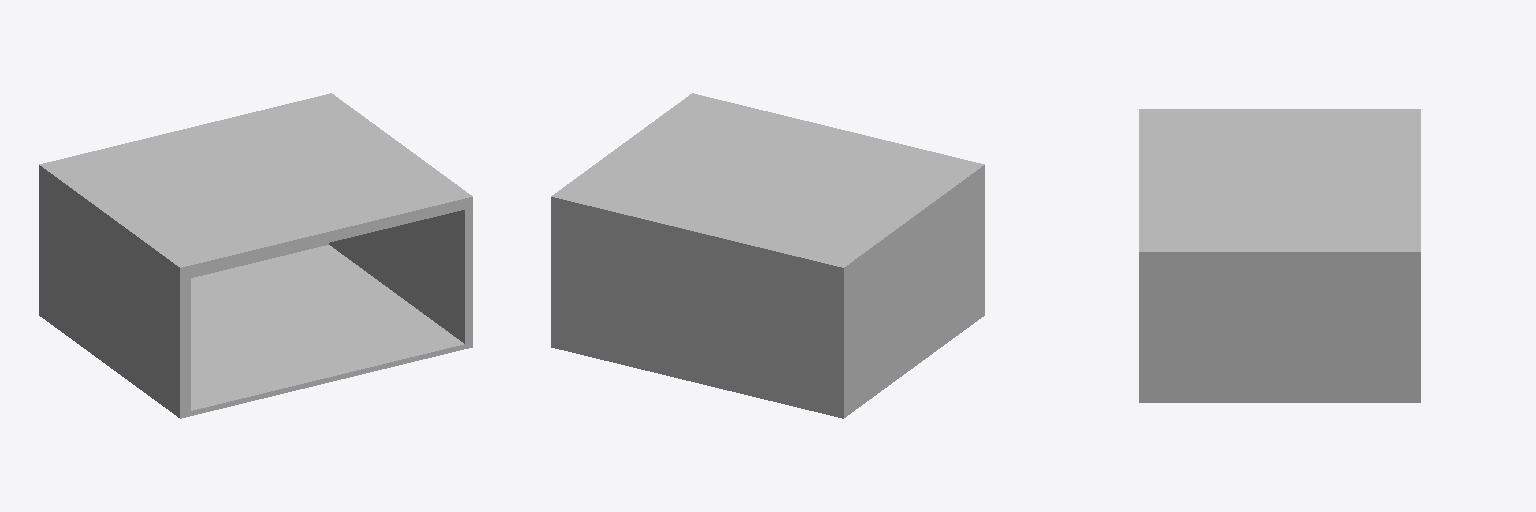
The model's file is newroom.obj.
3 views of the same model, side by side, from view 1: azimuth 30°, elevation 25°; view 2: azimuth 150°, elevation 25°; view 3: azimuth 270°, elevation 25° (orthographic).
Visible parts, largest first — view 1: polySurface3 Room, Room polySurface4; view 2: polySurface3 Room; view 3: polySurface3 Room.
Part boxes in pixels (x1,y1,x2,y2): polySurface3 Room: (39,93,472,418); Room polySurface4: (191,245,463,410); polySurface3 Room: (551,93,984,418); polySurface3 Room: (1139,109,1420,402).
Size of the model in its own units: 24.91 by 12.26 by 20.83.